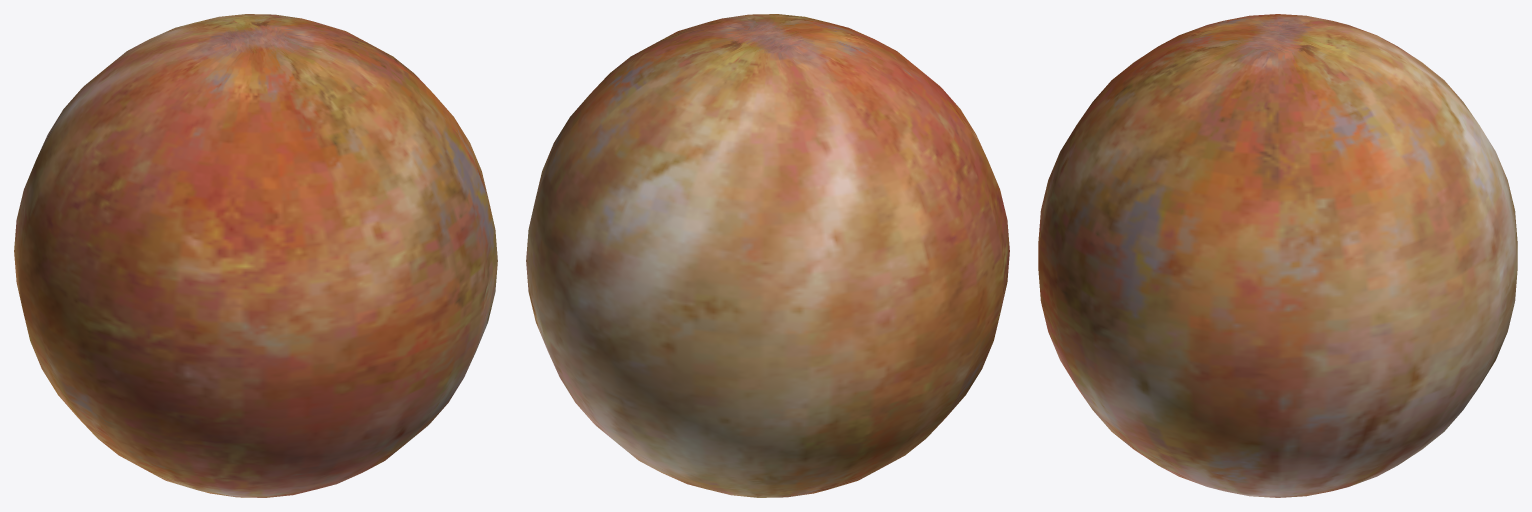
Rendered from ui_planet_sel_dath.fbx.
The picture shows the model from 3 angles, left to right: view 1: azimuth 30°, elevation 25°; view 2: azimuth 150°, elevation 25°; view 3: azimuth 270°, elevation 25°; orthographic projection.
Visible parts, largest first — view 1: mesh_node; view 2: mesh_node; view 3: mesh_node.
Part boxes in pixels (box(x1,y1,x2,y2)): mesh_node: box(14, 14, 497, 497); mesh_node: box(526, 14, 1009, 497); mesh_node: box(1038, 14, 1517, 497).
Size of the model in its own units: 2 by 2 by 1.98.
1 material, 1 textured.
